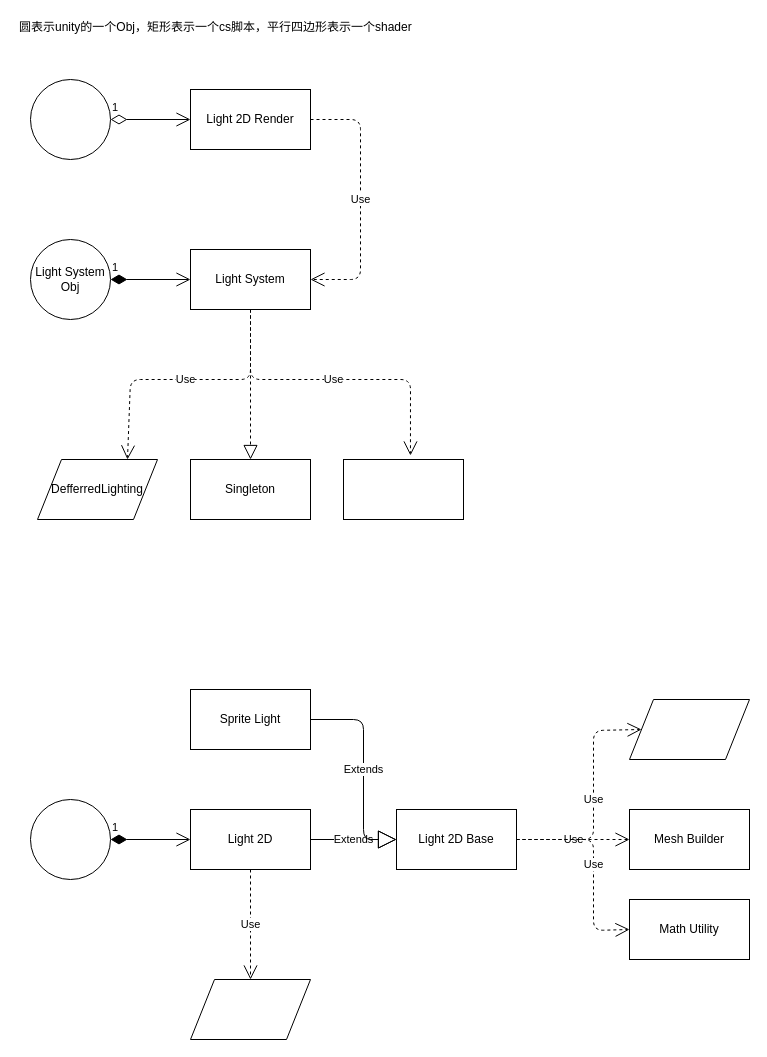
This 767x1057 diagram has some shape labels left out. Each missing label, with the box of its shape:
2D Light: (190, 978, 310, 1040)
2D Shadow: (628, 698, 750, 760)
Camera: (30, 78, 110, 160)
Light: (30, 798, 110, 880)
Light 2D Profile: (342, 458, 464, 520)
